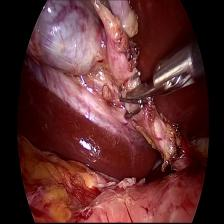Scissors: (124, 40, 200, 114)
